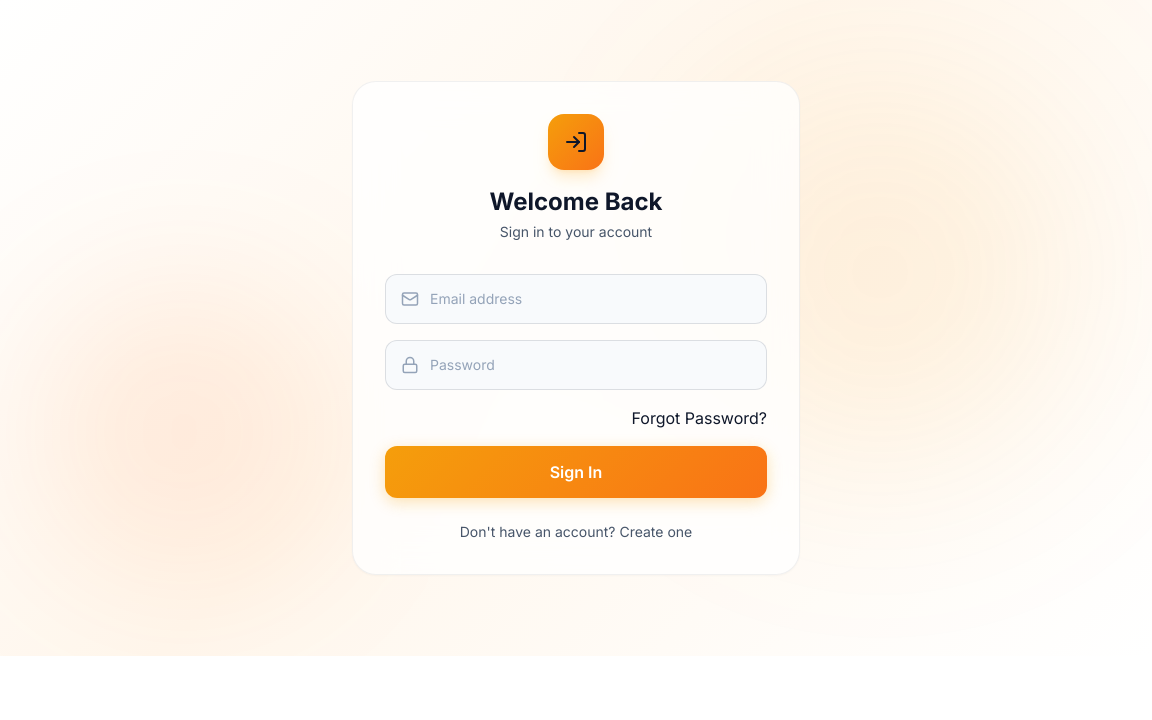
Test case: Login error messages › shows the server message when the API rejects with 401
Type "rider@example.com" into the field with placeholder "Email address" at (576, 299), box [385,274,767,324]
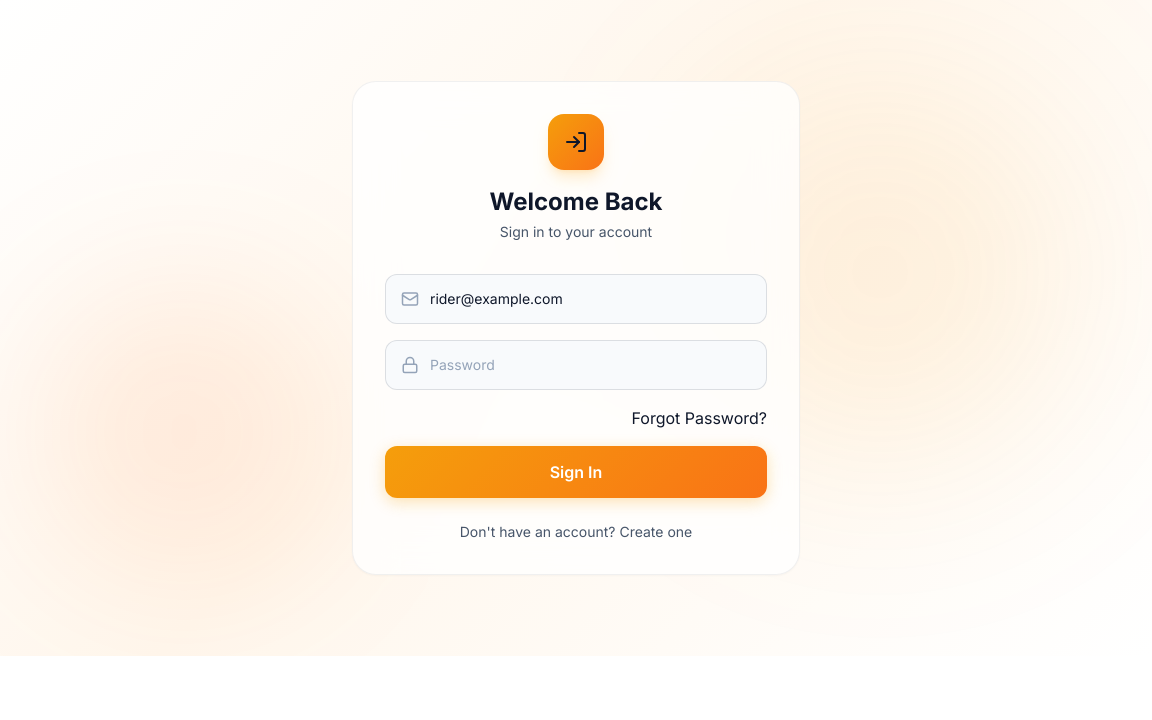
Type "wrong-password" into the password field with placeholder "Password" at (576, 365), box [385,340,767,390]
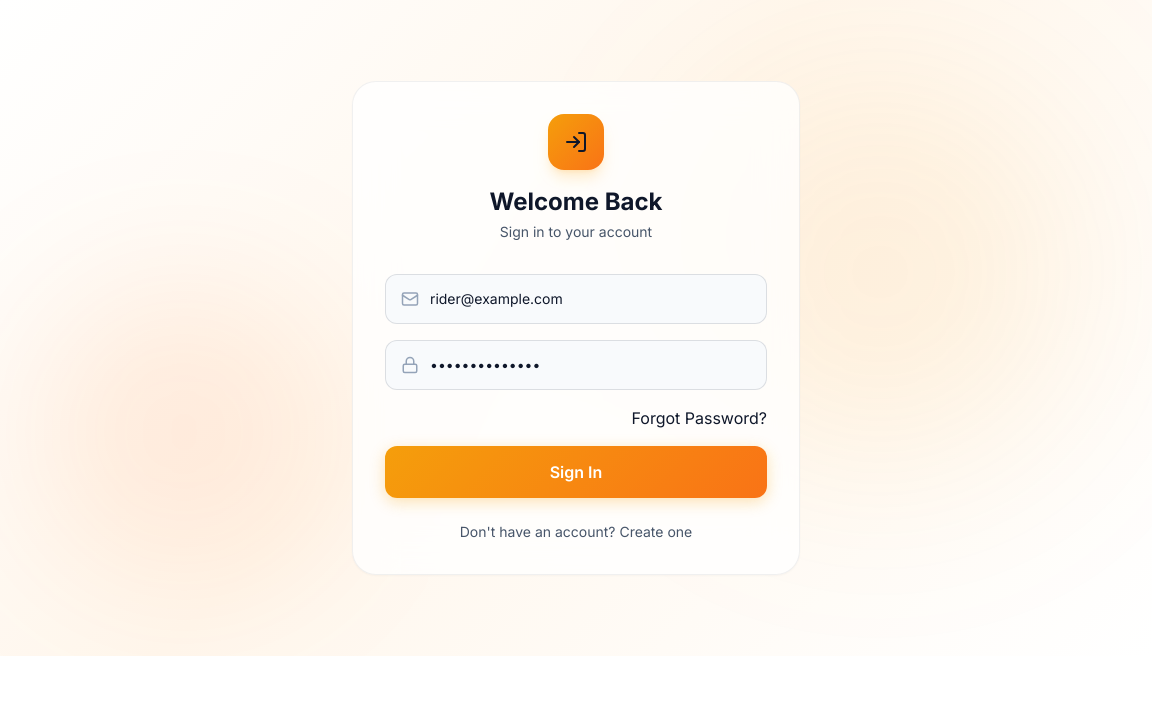
Click the button "Sign In" at (576, 472), box [385,446,767,498]
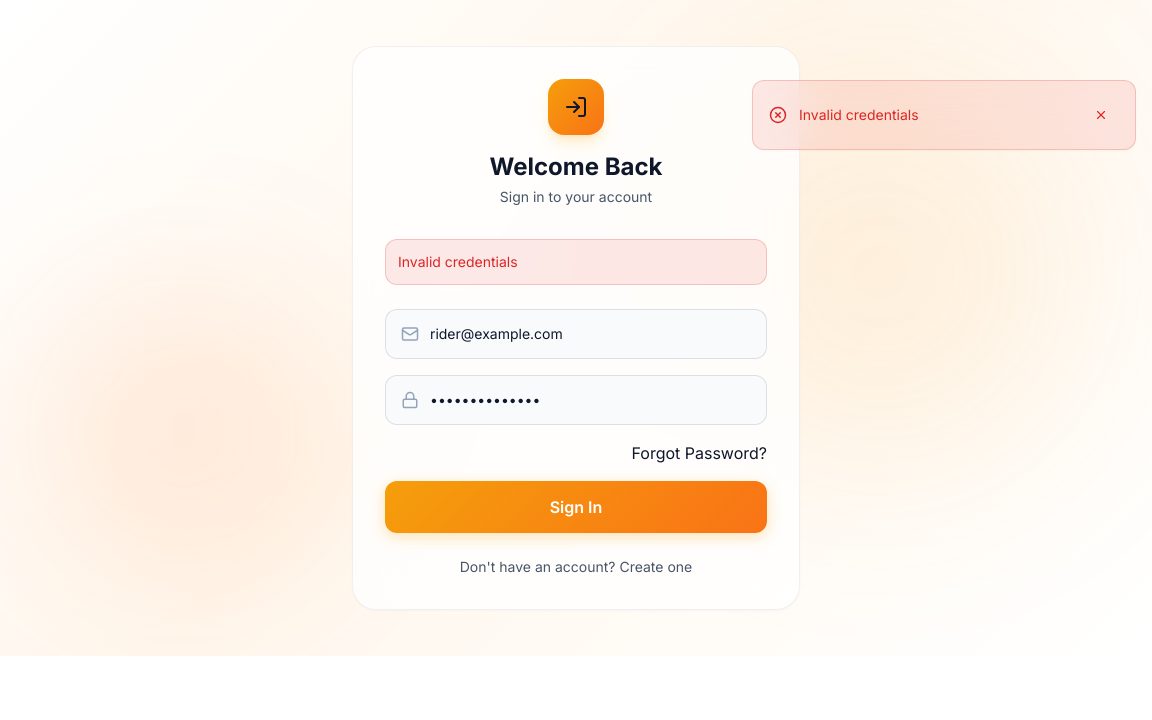
Now the text "Invalid credentials" is shown 2 times, box [385,239,767,285]; [799,106,919,123]
